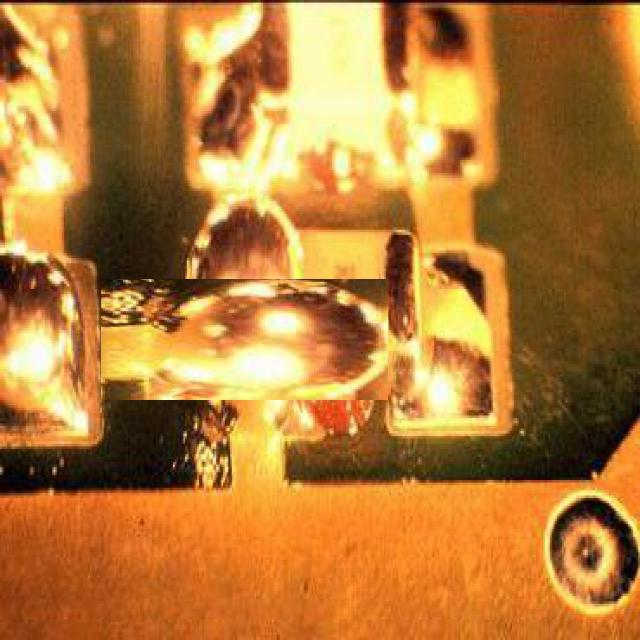redundant: (101, 279, 388, 400)
